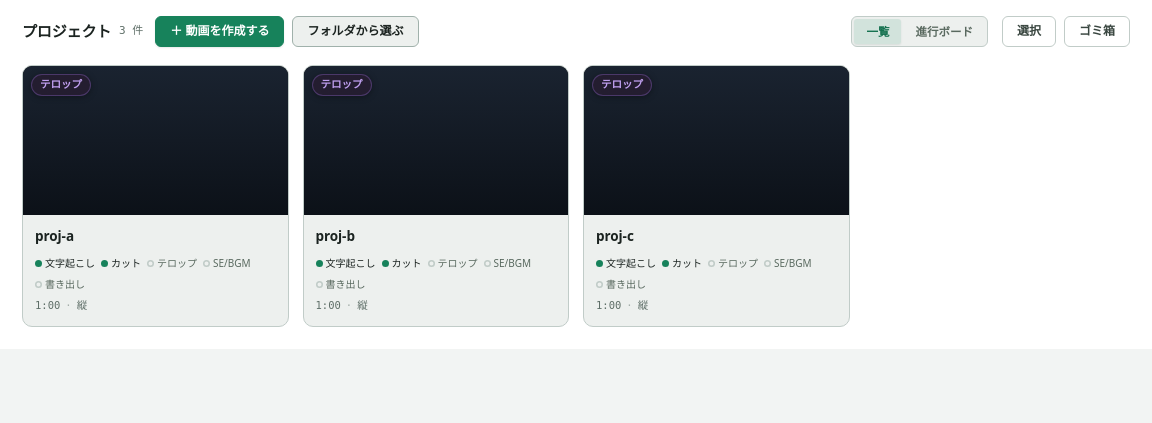
Test: 進行ボードの選択モード › 一覧ビューでも同じ選択モードが使える（ボード専用に癒着させない）
Step 1. Click the button "選択" → (1029, 32), box left=1002, top=16, right=1056, bottom=47
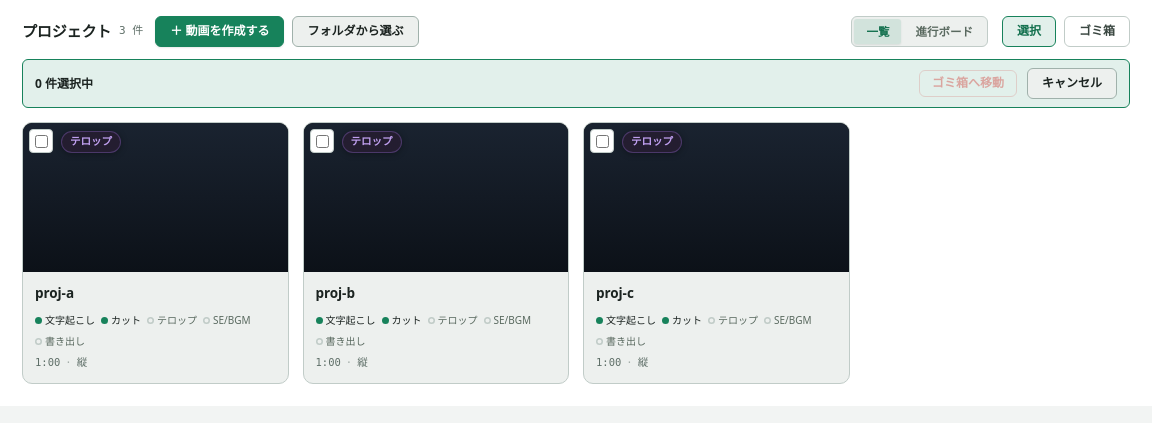
Step 2. Click the button "proj-a" → (155, 253), box left=22, top=122, right=288, bottom=384
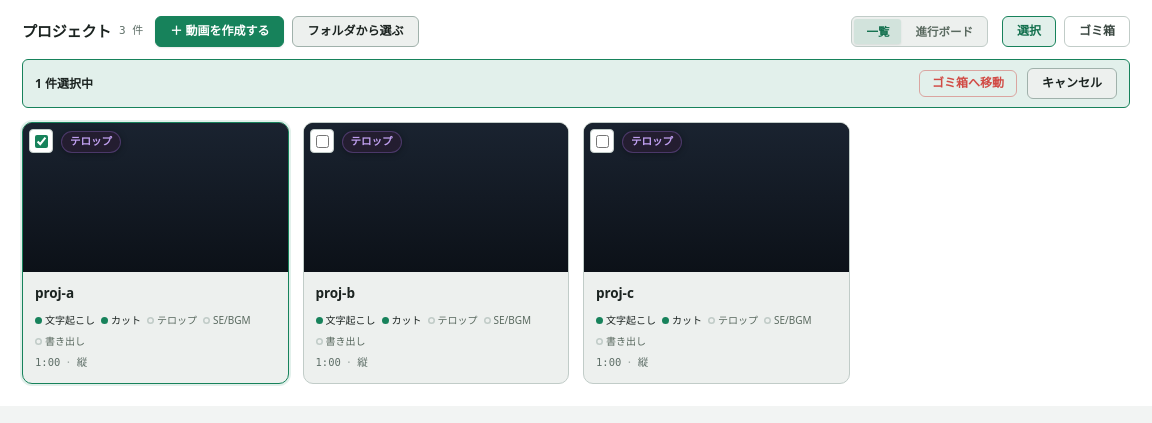
expect the message with test id "home-select-bar" shows "1 件選択中": met, box left=22, top=59, right=1130, bottom=108
